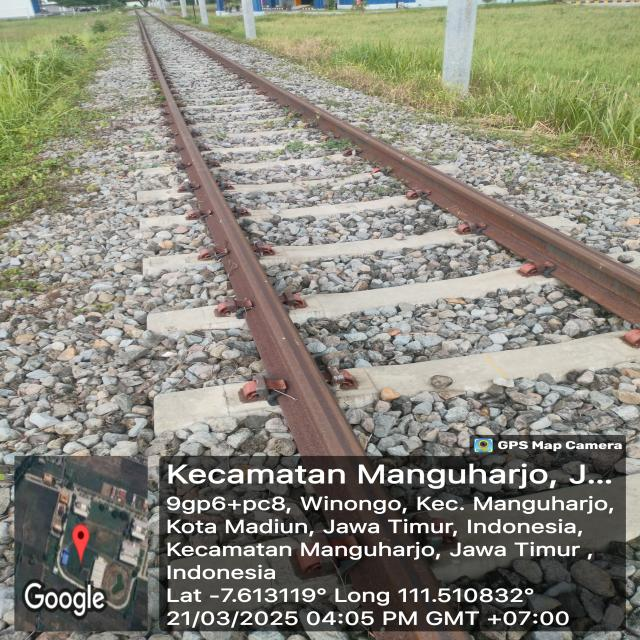rail-detection: (160, 21, 640, 324), (135, 10, 364, 456)
